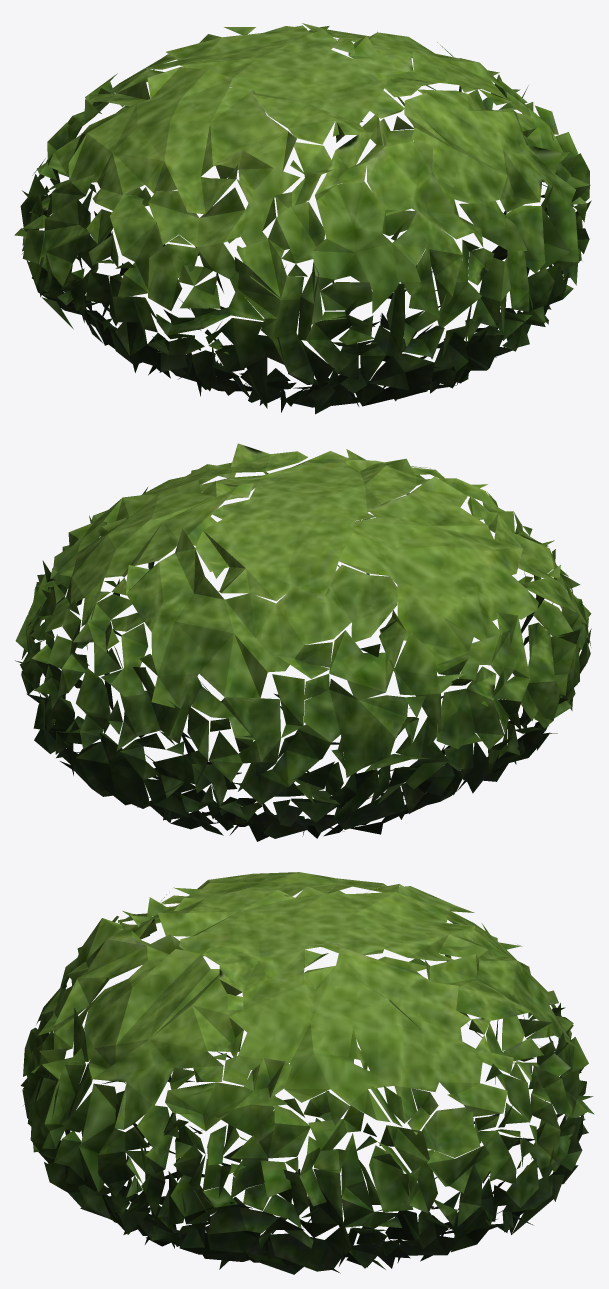
File: x-buis.glb
3 views of the same model, one above another, from view 1: azimuth 30°, elevation 25°; view 2: azimuth 150°, elevation 25°; view 3: azimuth 270°, elevation 25° (orthographic). The views are drawn at different scales.
Parts seen in each view (by area): view 1: geometry_0; view 2: geometry_0; view 3: geometry_0.
Boxes of the visible parts, x1,y1,x2,y2 form: geometry_0: (14, 23, 591, 414); geometry_0: (15, 443, 591, 841); geometry_0: (20, 872, 594, 1274).
Size of the model in its own units: 1.01 by 0.5695 by 0.9716.
Materials: 1 (1 with a texture image).
